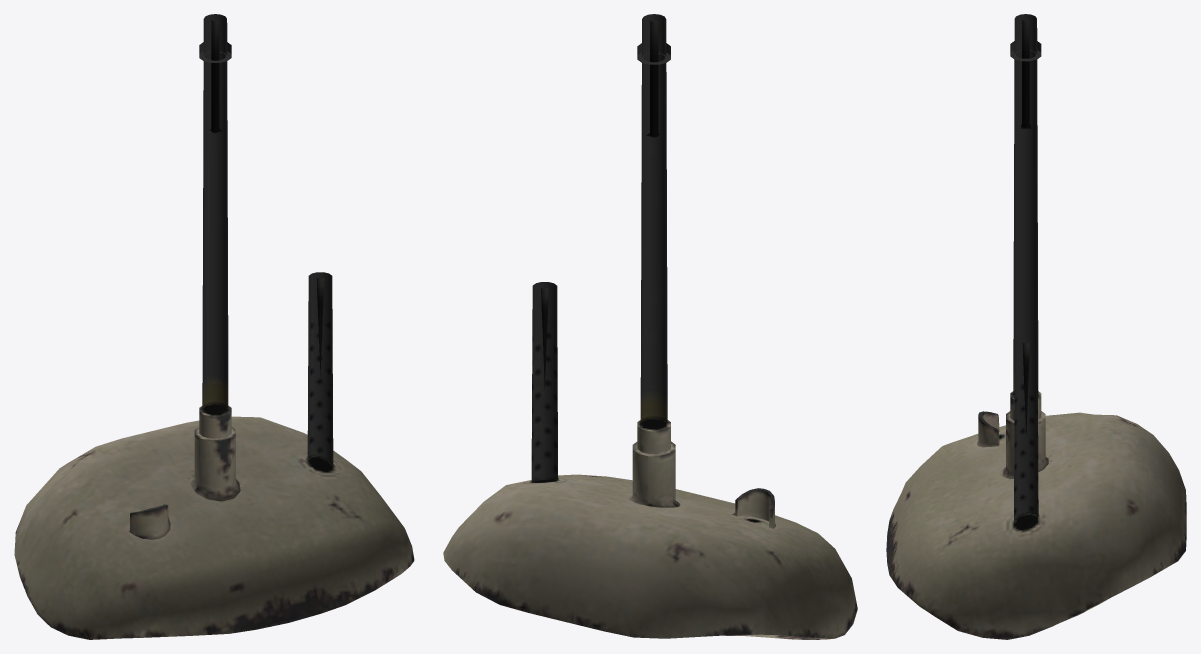
File: Gun_03.glb
3 views of the same model, side by side, from view 1: azimuth 30°, elevation 25°; view 2: azimuth 150°, elevation 25°; view 3: azimuth 270°, elevation 25° (orthographic). The views are drawn at different scales.
Parts seen in each view (by area): view 1: set_0_group_0; view 2: set_0_group_0; view 3: set_0_group_0.
Boxes of the visible parts, box(x1,y1,x2,y2) form: set_0_group_0: box(14, 14, 414, 639); set_0_group_0: box(443, 14, 857, 639); set_0_group_0: box(886, 14, 1186, 639).
Bounding box in the file's own units: 0.5818 × 0.9153 × 0.4421.
1 material, 1 textured.
